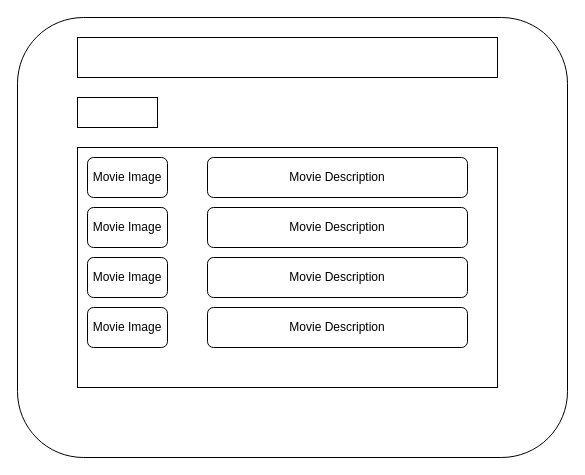
Image size: 585x475. Some labels were removed from this diagram. The shapes that lost their labels are listed below. From the top down, each one's centre as x and y in pixels, then its label:
At point 287,57: "MovieTitles.com".
At point 117,112: "Movie List".
